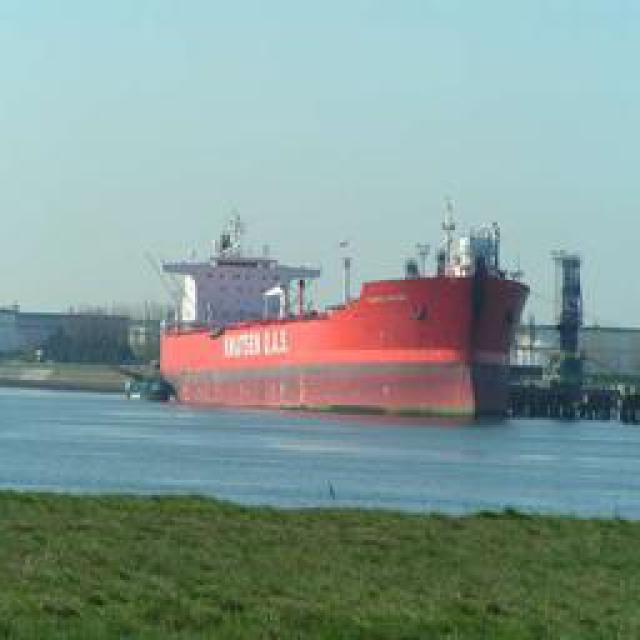Ship: (148, 226, 556, 419)
